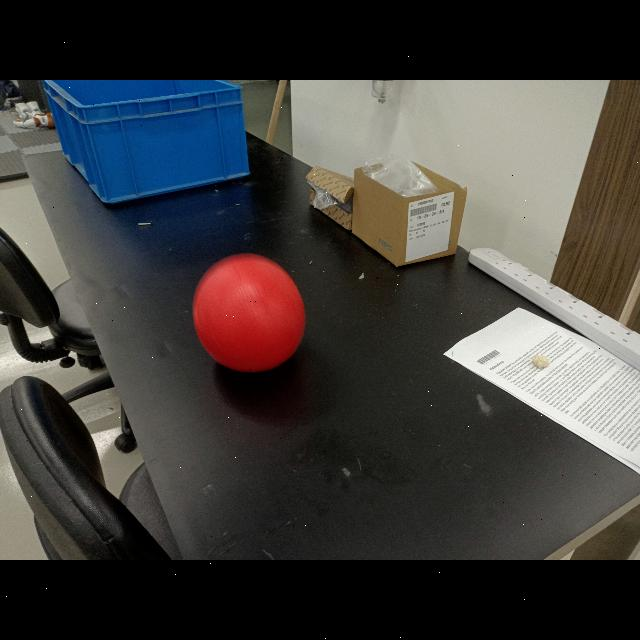R: (194, 254, 306, 372)
